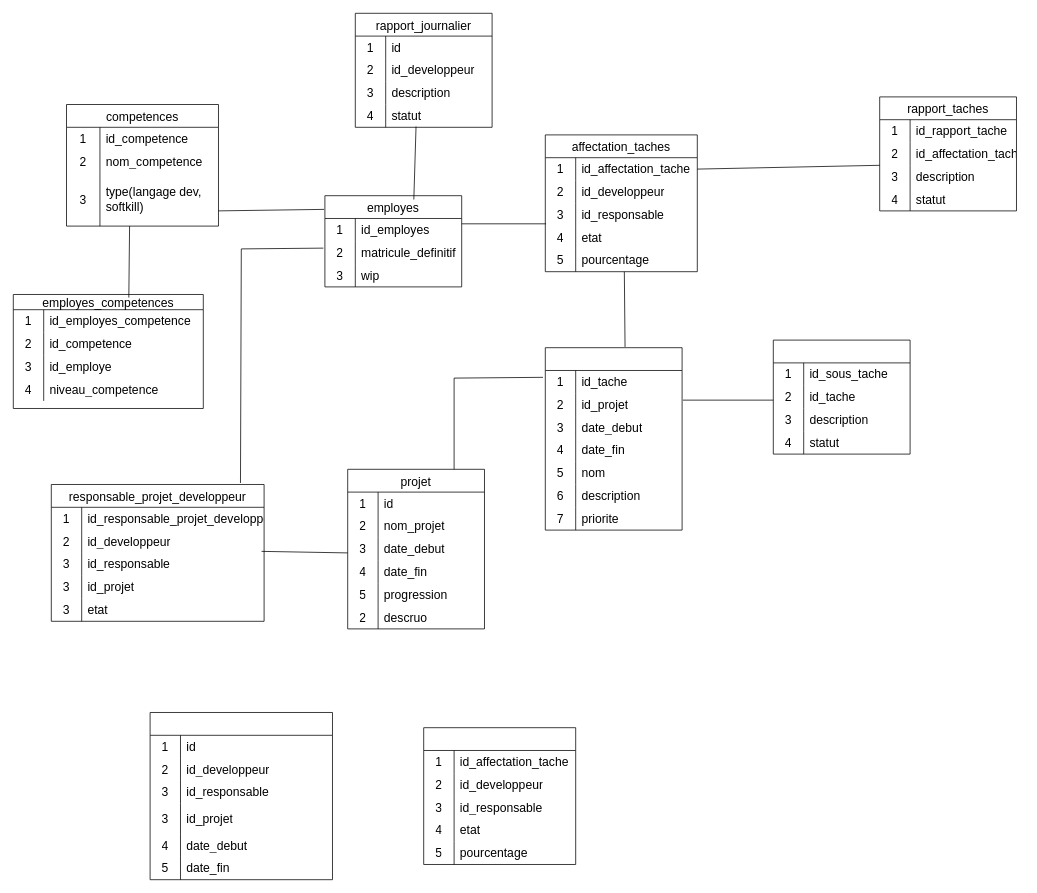
This 1037x893 diagram has some shape labels left out. The box of each missing label's shape, as (x1, y1, x2, y2) in pixels:
hisororique_resProjetDev: (149, 712, 332, 880)
historique_affect_taches: (423, 727, 576, 864)
sous_taches: (773, 339, 910, 454)
taches: (545, 347, 682, 530)
